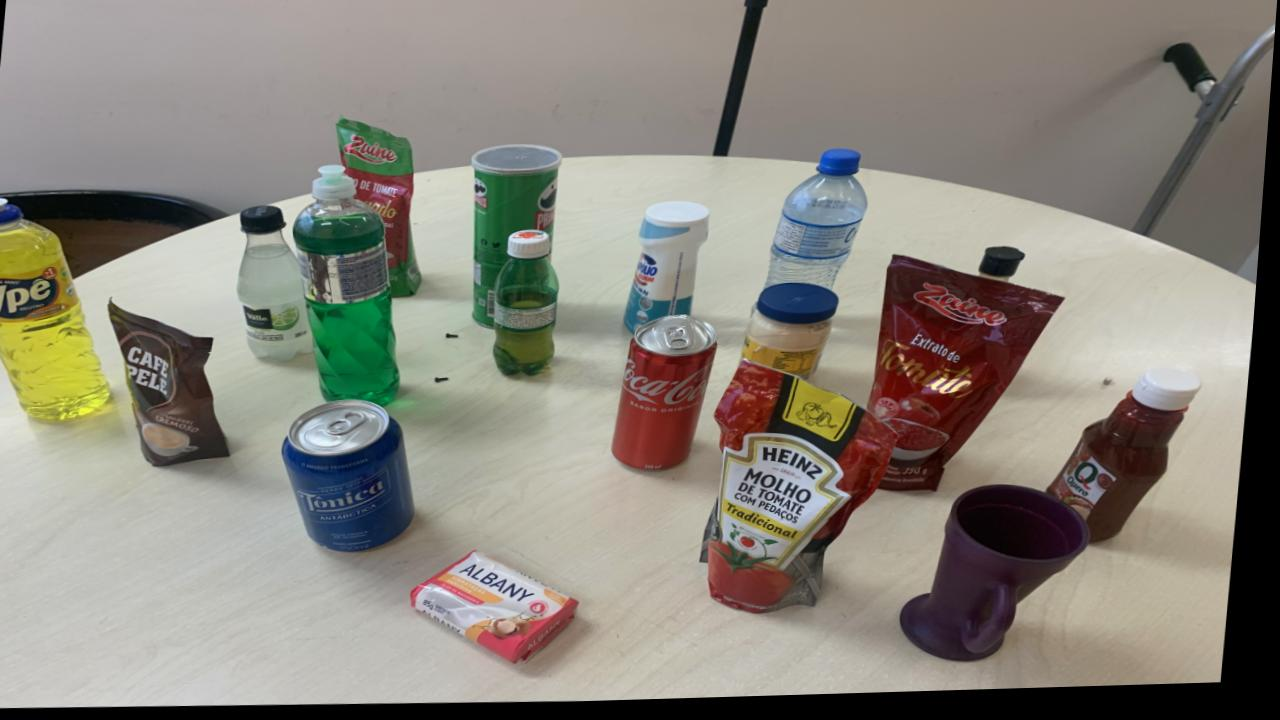Cleaner-Cleanup_Items: (630, 206, 714, 336)
Coffee-Pantry_Items: (112, 303, 237, 468)
Coke-Drinks: (618, 318, 722, 476)
Detergent-Cleanup_Items: (296, 169, 407, 408), (0, 199, 116, 420)
English_Sauce-Pantry_Items: (984, 253, 1030, 283)
Guarana-Drinks: (498, 233, 564, 379)
Ketchup-Pantry_Items: (1054, 374, 1207, 549)
Mayonnaise-Pantry_Items: (748, 288, 844, 383)
Pringles-Snacks: (473, 147, 566, 331)
Soap-Cleanup_Items: (420, 554, 587, 666)
Soda-Drinks: (241, 207, 319, 362)
Tomato_Sauce-Pantry_Items: (713, 365, 904, 618), (873, 261, 1069, 497), (338, 120, 427, 300)
Tonic-Drinks: (289, 401, 422, 553)
Water_Bottle-Drinks: (770, 154, 872, 293)
